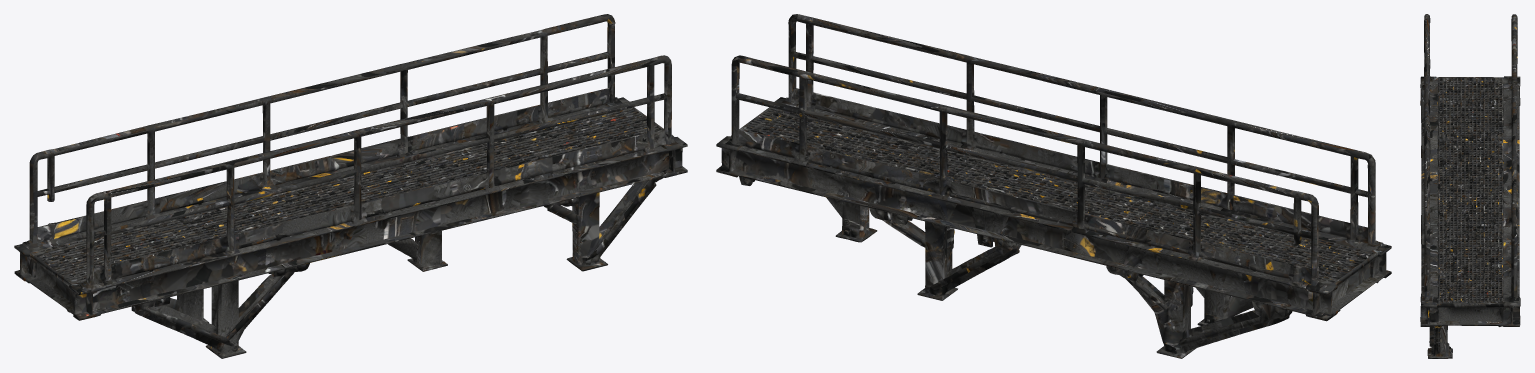
The model's file is SM_A07K_Catwalk.fbx.
3 renders of one model, left to right at view 1: azimuth 30°, elevation 25°; view 2: azimuth 150°, elevation 25°; view 3: azimuth 270°, elevation 25°, orthographic. The views are drawn at different scales.
Parts seen in each view (by area): view 1: SM_A07K_Catwalk; view 2: SM_A07K_Catwalk; view 3: SM_A07K_Catwalk.
Part boxes in pixels (x1,y1,x2,y2): SM_A07K_Catwalk: (14,14,687,358); SM_A07K_Catwalk: (716,14,1391,358); SM_A07K_Catwalk: (1420,14,1520,358).
Size of the model in its own units: 600 by 185 by 111.
